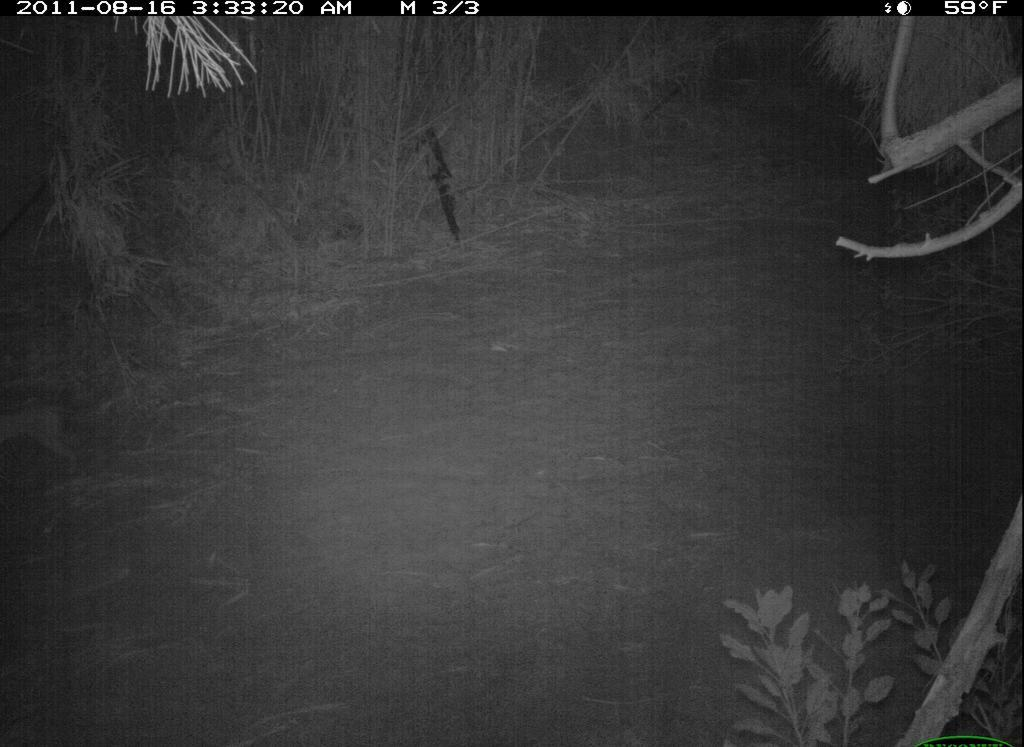bobcat: (2, 377, 114, 489)
